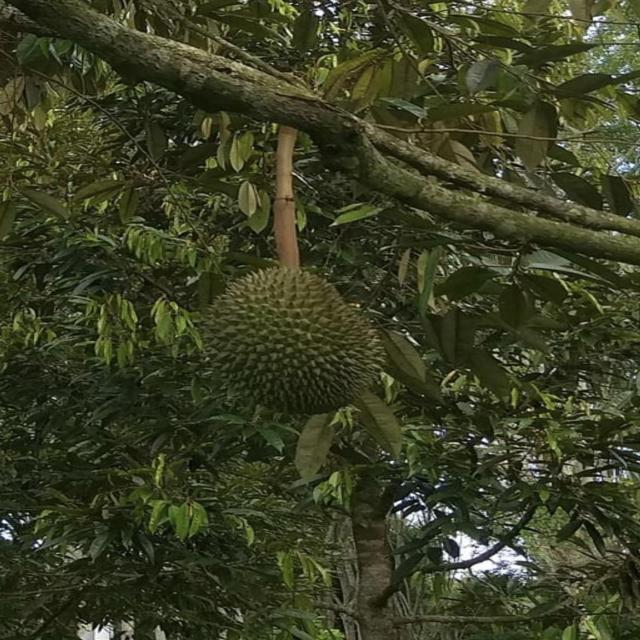immature: (200, 268, 392, 417)
